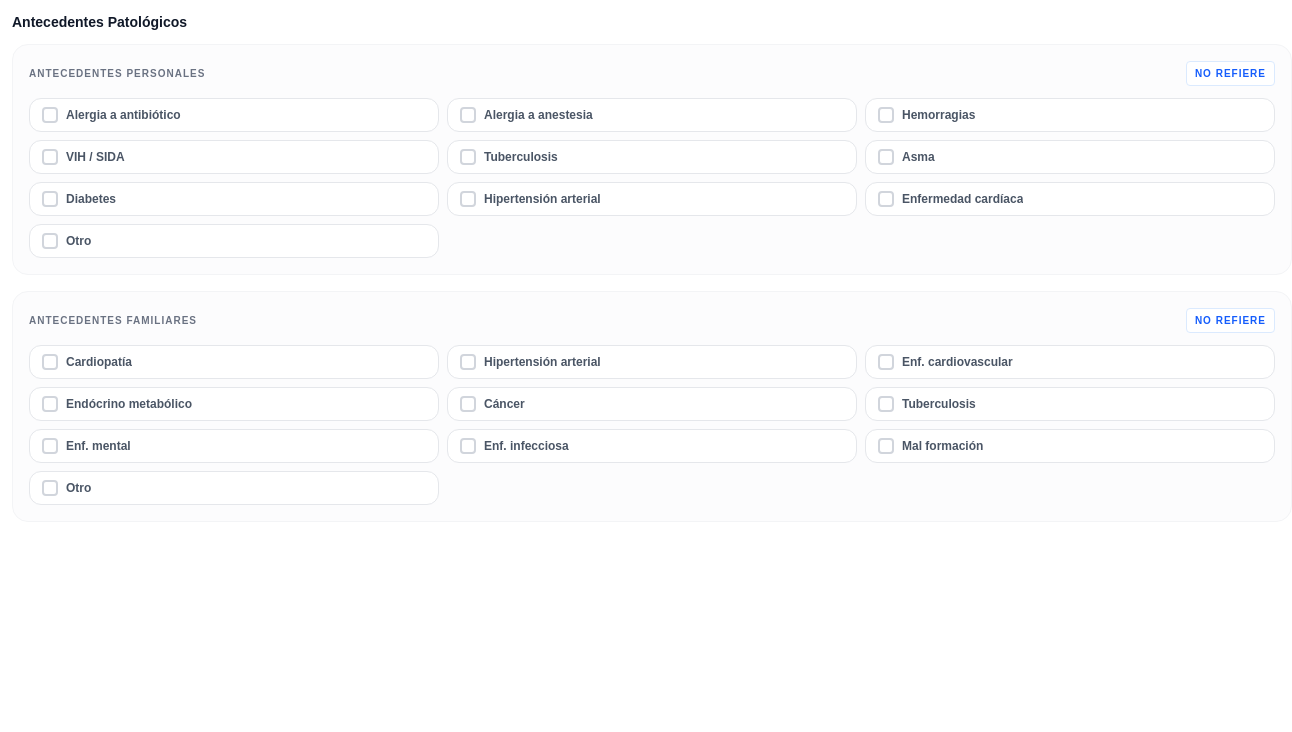
Test: MedicalHistoryCheckboxes › muestra input con placeholder "Especificar..." al marcar "Otro" en personales
The image size is (1292, 732).
Expected: the field with placeholder "Especificar..." is not shown
Click the button "Otro" below "Antecedentes Personales": (50, 241) [29,224,439,258]
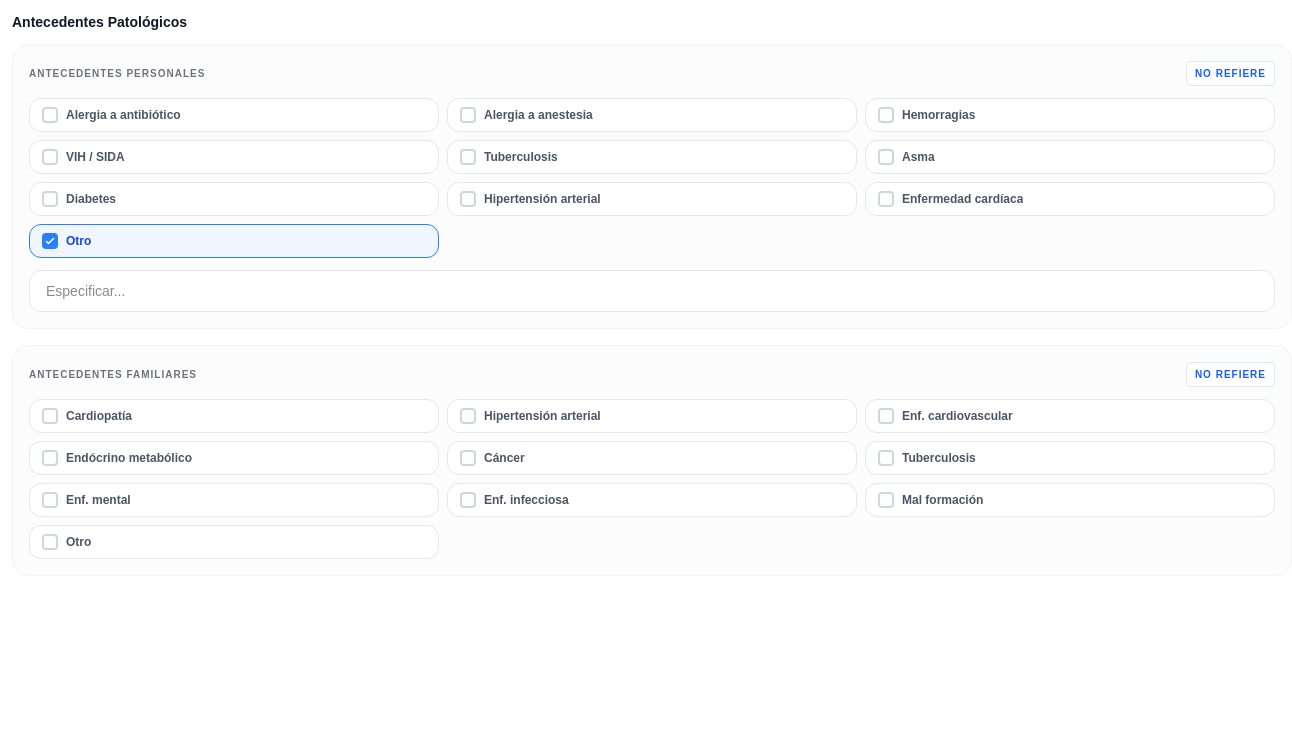
Expected: the field with placeholder "Especificar..." is shown, [29,270,1275,312]
